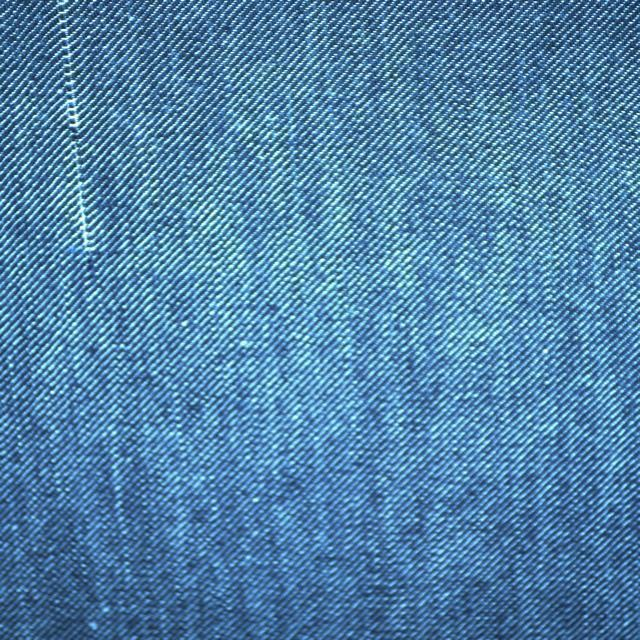Line: (54, 0, 101, 268)
